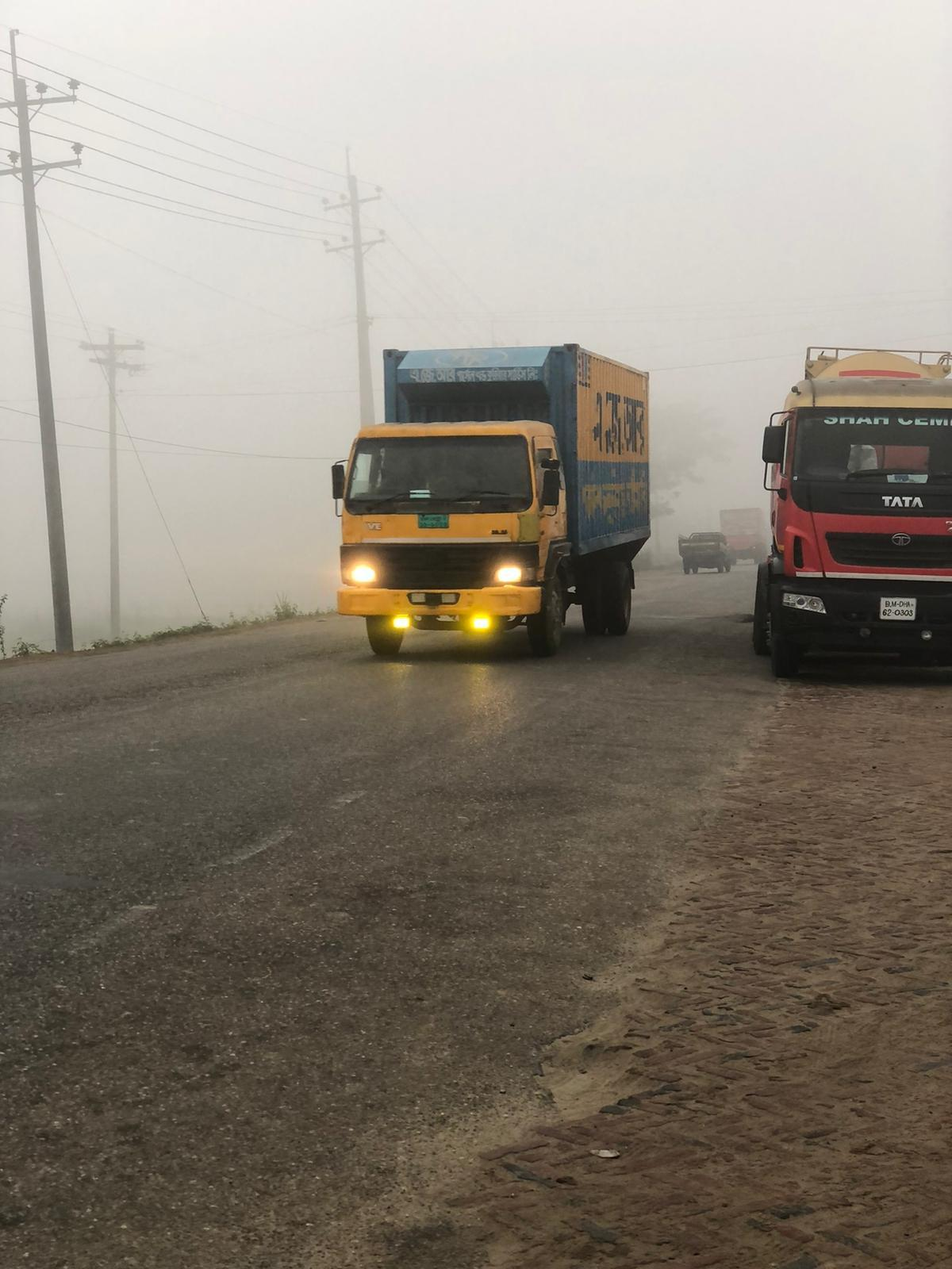Truck: (333, 341, 662, 657), (744, 337, 952, 696), (674, 514, 731, 589)
